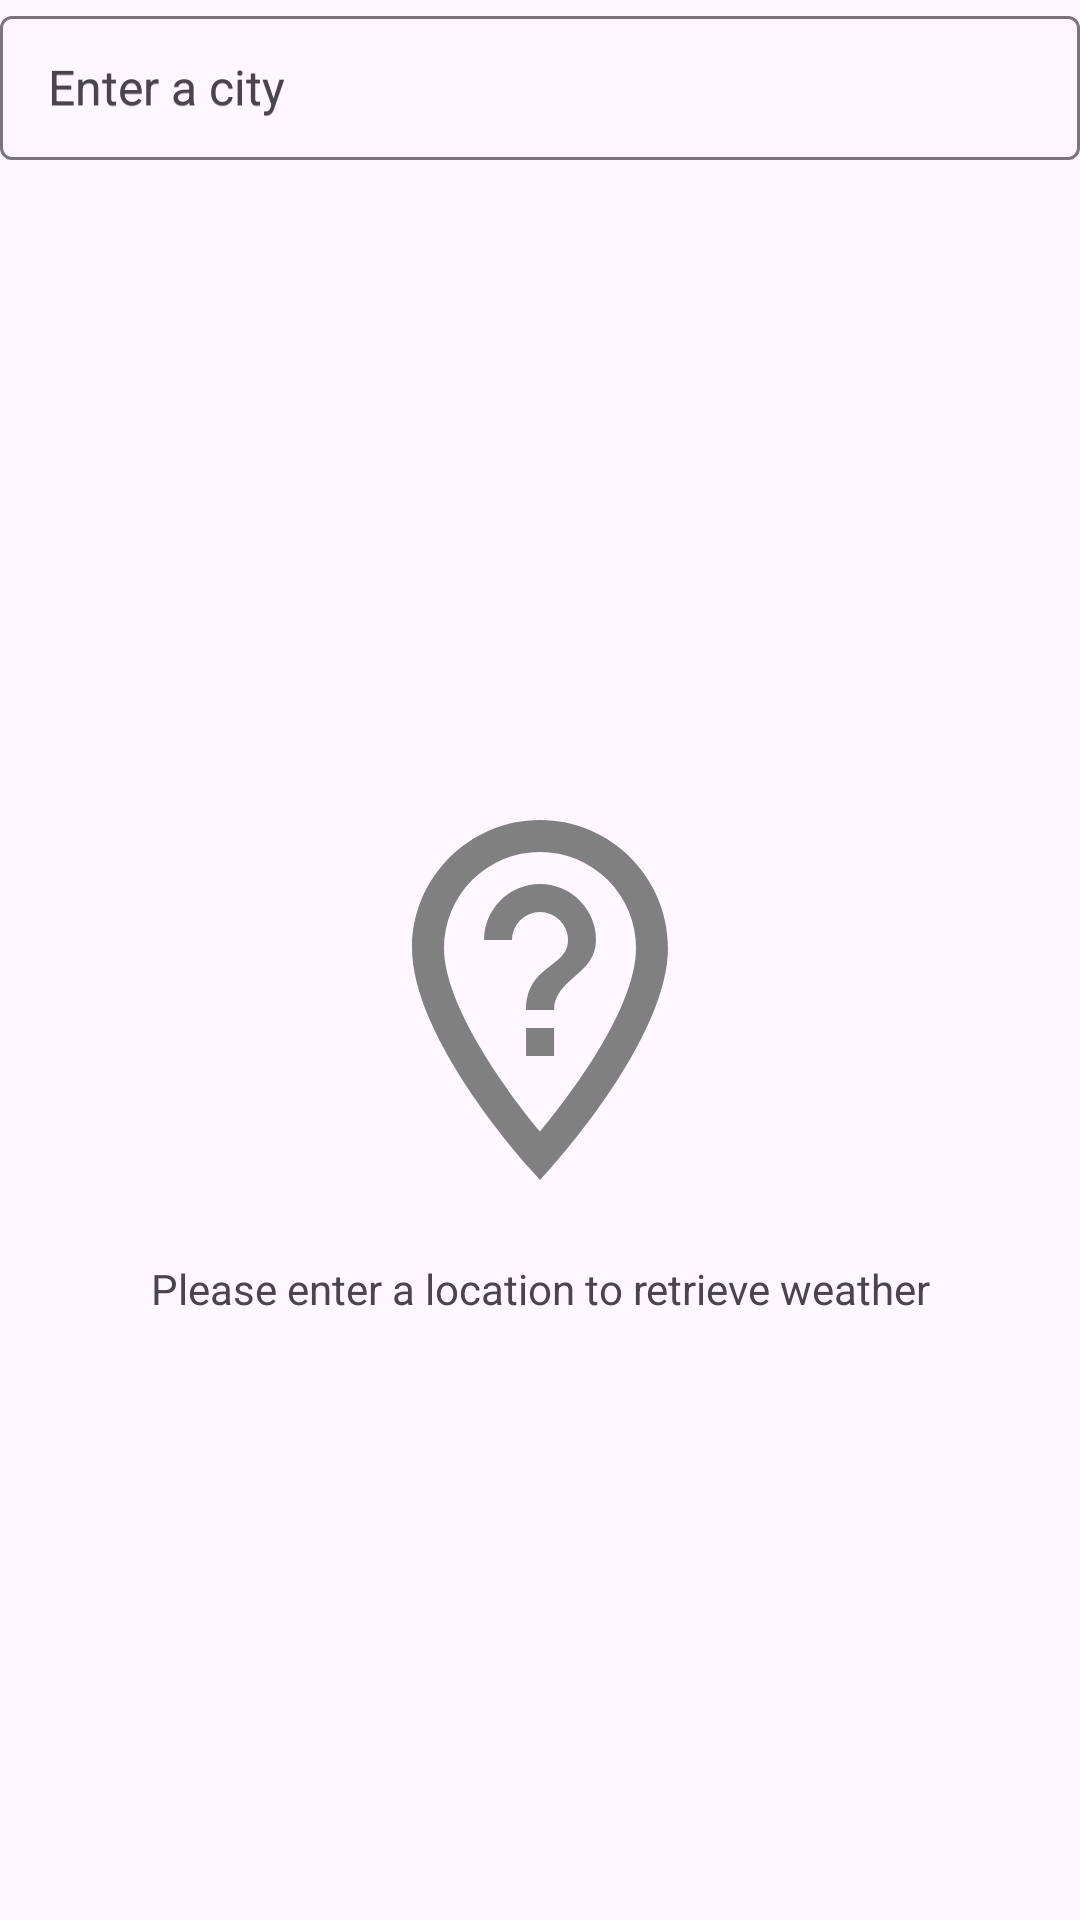

Locate icon controls on the screen. Image size 1080x1920, boxes as (x1, y1, x2, y2).
no location: (412, 820, 668, 1180)
